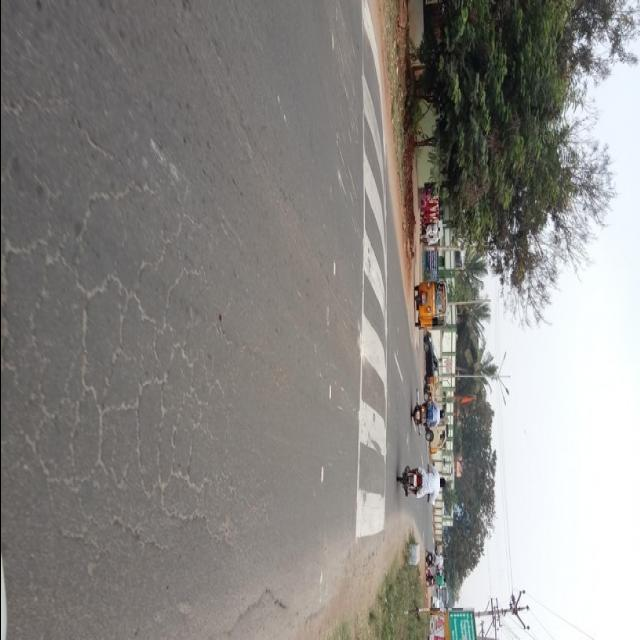speedbreaker: (358, 71, 397, 543)
